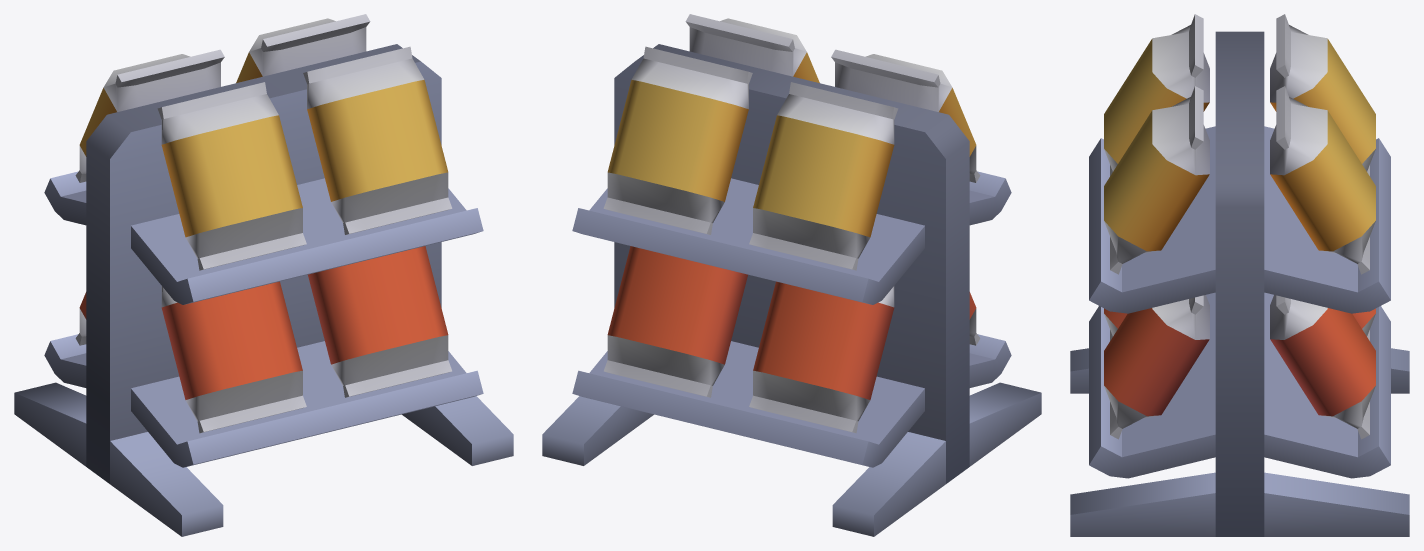
Rendered from shelf-bags.glb.
3 renders of one model, left to right at view 1: azimuth 30°, elevation 25°; view 2: azimuth 150°, elevation 25°; view 3: azimuth 270°, elevation 25°, orthographic.
Visible parts, largest first — view 1: bag (×6), shelf-bags; view 2: bag (×6), shelf-bags; view 3: shelf-bags, bag (×6).
Part boxes in pixels (x1,y1,x2,y2): bag (×6): (75,14,452,433); shelf-bags: (14,44,513,536); bag (×6): (603,14,980,433); shelf-bags: (542,44,1041,536); shelf-bags: (1070,31,1409,536); bag (×6): (1104,14,1375,439).
Bounding box in the file's own units: 0.8 × 0.8634 × 0.7.
